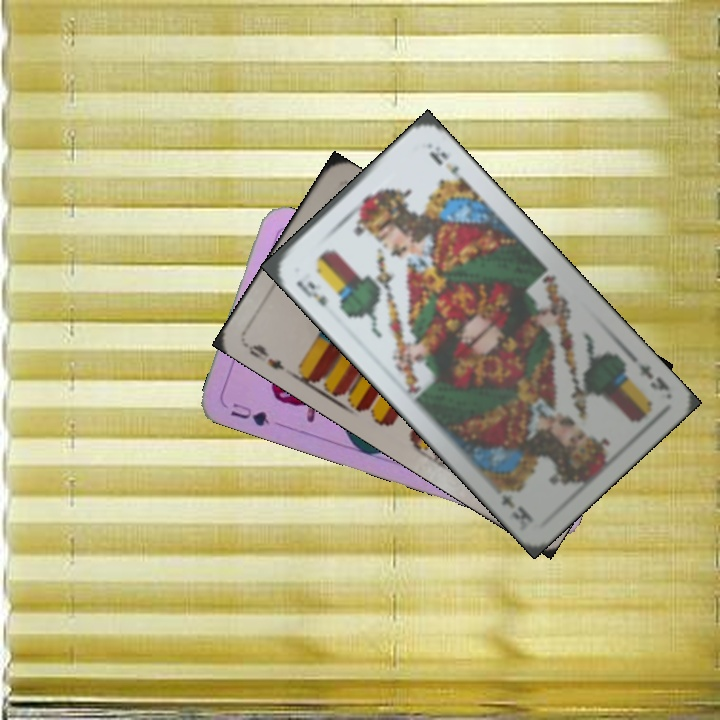E9: (241, 339, 288, 373)
EK: (625, 350, 672, 394), (292, 276, 330, 309)
GU: (226, 399, 272, 429)
